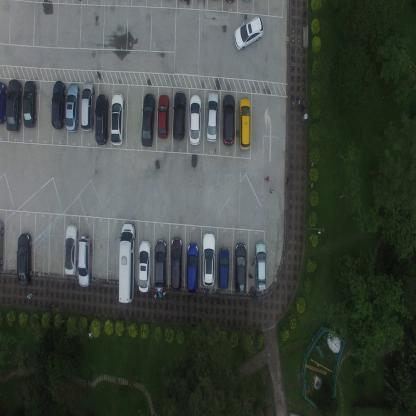car: (118, 222, 136, 304), (234, 15, 264, 51), (6, 78, 23, 133), (140, 92, 156, 148), (16, 232, 32, 288), (64, 82, 80, 134), (110, 92, 125, 146), (94, 92, 109, 146), (205, 90, 220, 143), (137, 239, 152, 292), (22, 79, 38, 128), (202, 232, 216, 288), (77, 235, 92, 287), (188, 94, 202, 148), (222, 93, 236, 146), (51, 80, 66, 129), (80, 80, 94, 132), (64, 224, 78, 276), (238, 96, 251, 151), (172, 91, 186, 142), (170, 236, 182, 292), (234, 242, 246, 296), (154, 239, 166, 293), (186, 242, 198, 295), (255, 240, 267, 291), (157, 94, 170, 141), (218, 246, 229, 290), (0, 80, 7, 126), (0, 218, 5, 270)
